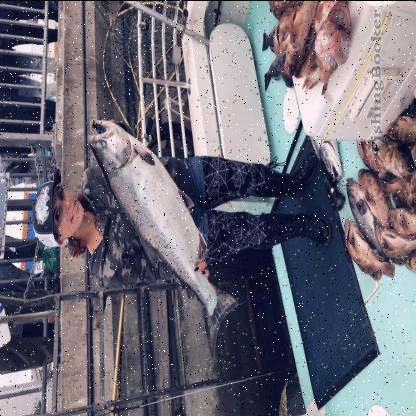fish: (86, 115, 240, 359), (346, 179, 388, 263), (343, 219, 395, 279), (358, 168, 395, 238), (354, 130, 392, 182), (374, 225, 415, 266)
